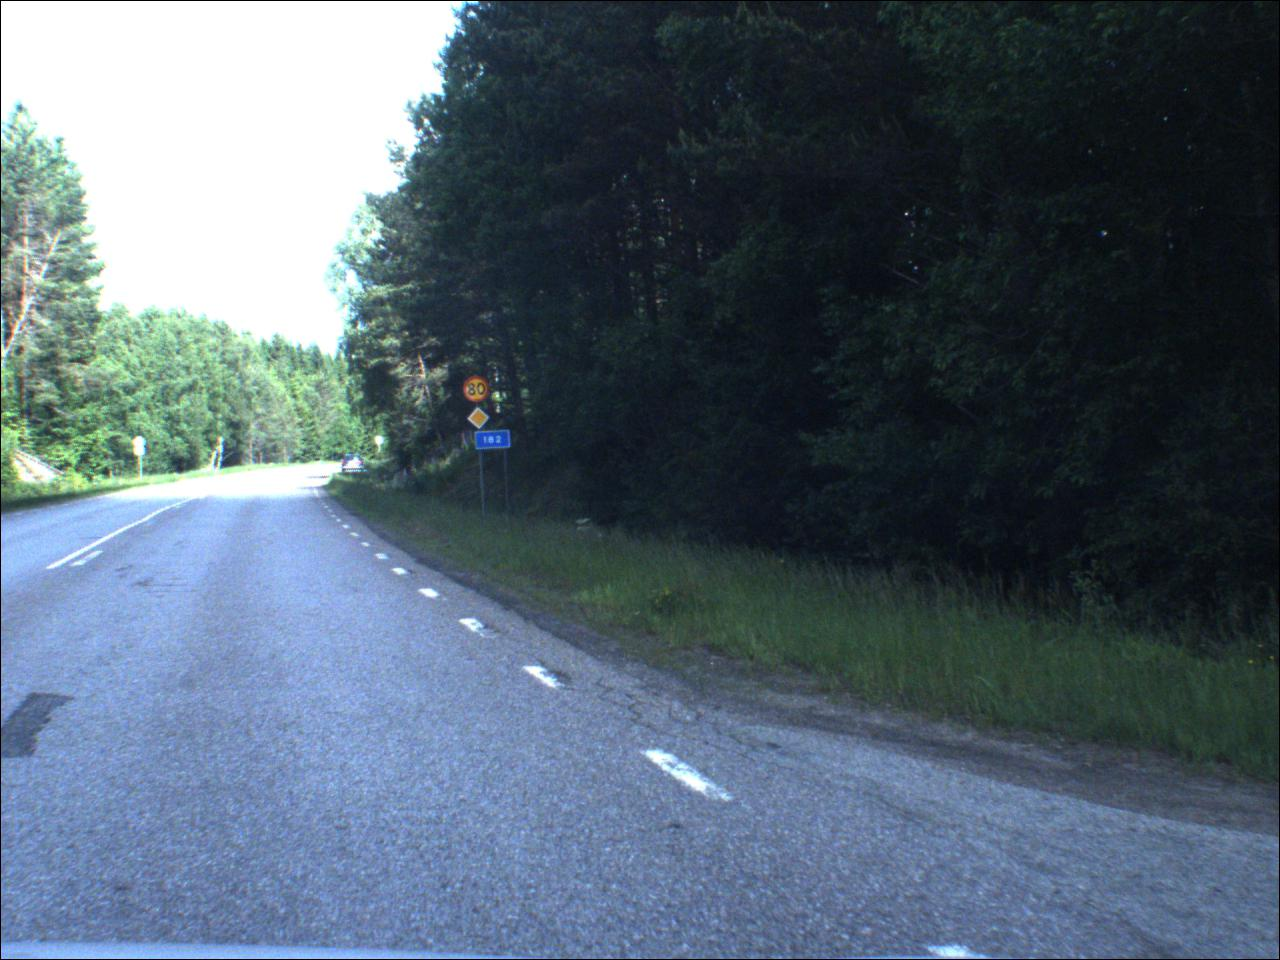80_SIGN: (464, 377, 491, 404)
PRIORITY_ROAD: (469, 409, 494, 432)
